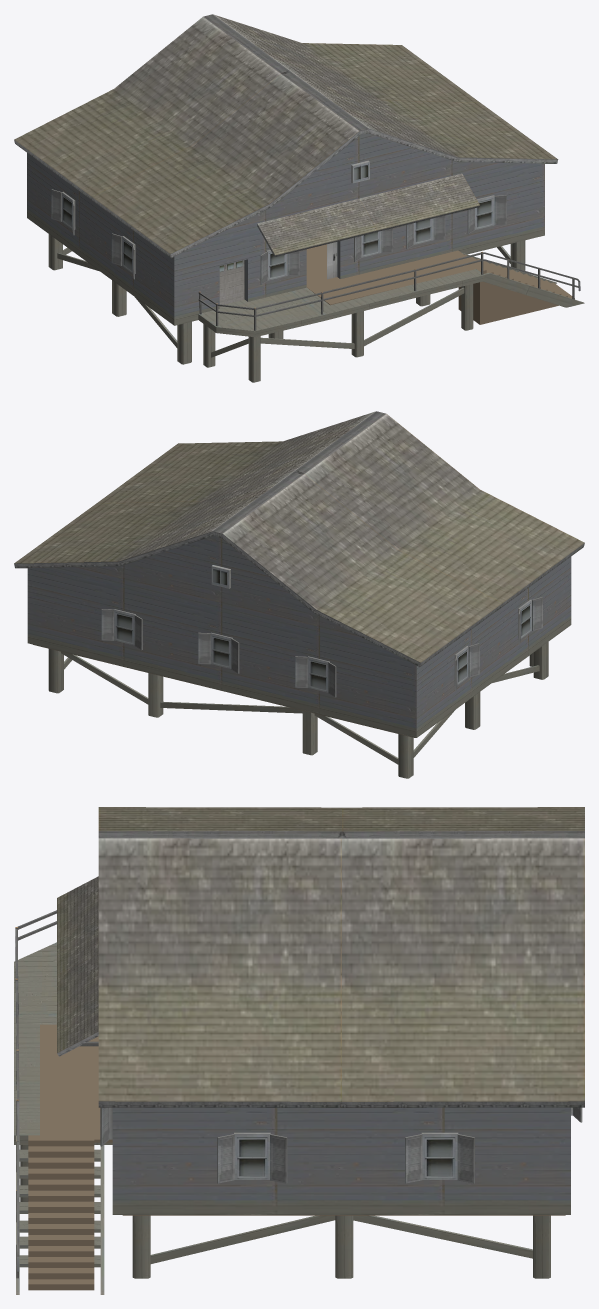
Rendered from rural-wood-1.walls-v1.lod0.glb.
3 renders of one model, top to bottom at view 1: azimuth 30°, elevation 25°; view 2: azimuth 150°, elevation 25°; view 3: azimuth 270°, elevation 25°, orthographic. The views are drawn at different scales.
Parts seen in each view (by area): view 1: Rural_WoodenBuilding_1_Rural_Housetrim_1_0, Rural_WoodenBuilding_1_Rural_Walltrim_1_0, Walkable floors and stairs; view 2: Rural_WoodenBuilding_1_Rural_Housetrim_1_0, Rural_WoodenBuilding_1_Rural_Walltrim_1_0; view 3: Rural_WoodenBuilding_1_Rural_Housetrim_1_0, Rural_WoodenBuilding_1_Rural_Walltrim_1_0, Walkable floors and stairs.
Part boxes in pixels (<box>): Rural_WoodenBuilding_1_Rural_Housetrim_1_0: <box>14,14,580,330</box>; Rural_WoodenBuilding_1_Rural_Walltrim_1_0: <box>27,133,584,382</box>; Walkable floors and stairs: <box>306,244,574,324</box>; Rural_WoodenBuilding_1_Rural_Housetrim_1_0: <box>14,411,584,697</box>; Rural_WoodenBuilding_1_Rural_Walltrim_1_0: <box>27,536,571,778</box>; Rural_WoodenBuilding_1_Rural_Housetrim_1_0: <box>15,807,584,1278</box>; Rural_WoodenBuilding_1_Rural_Walltrim_1_0: <box>14,942,570,1294</box>; Walkable floors and stairs: <box>28,1024,565,1290</box>.
Size of the model in its own units: 21.07 by 10.44 by 17.27.
3 materials, 2 textured.
